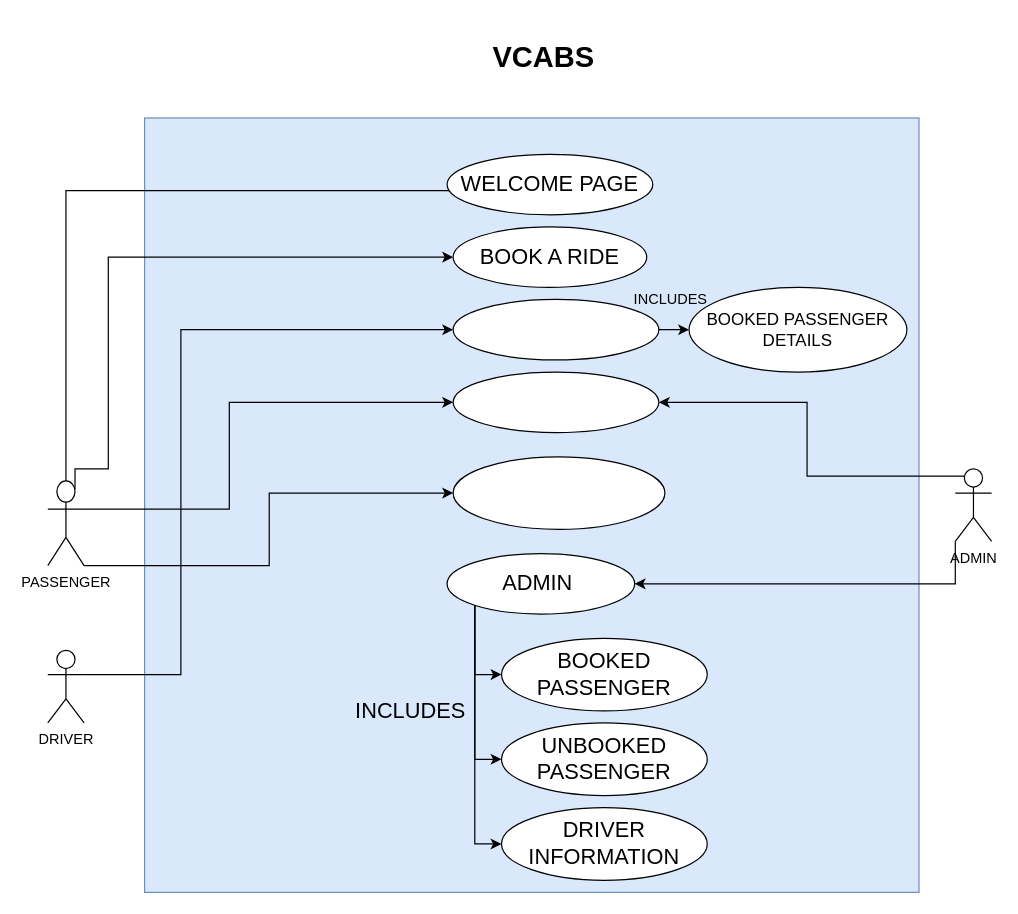
This 1018x914 diagram has some shape labels left out. The shapes that lost their labels are listed below. From the top down, each one's box as (x1, y1, x2, y2) in pixels, then its label:
(452, 298, 659, 360): DRIVER LOGIN
(452, 371, 659, 433): NEW DRIVER
(452, 456, 665, 529): FAIR ESTIMATOR
